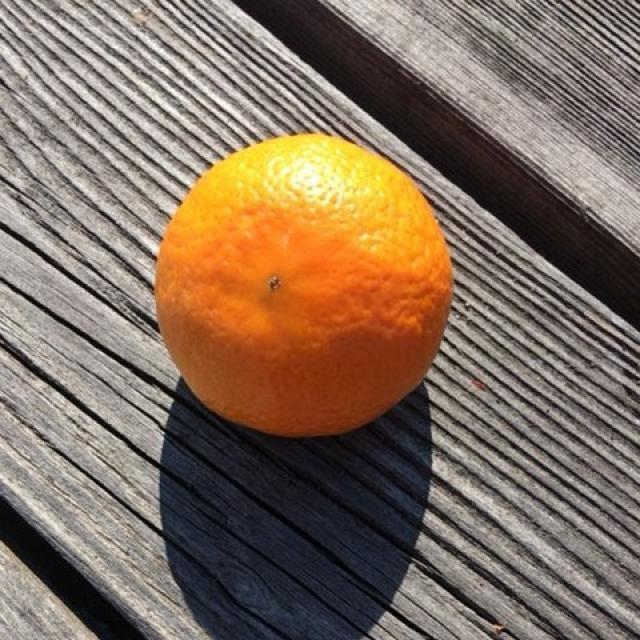mandarine: (153, 134, 450, 434)
